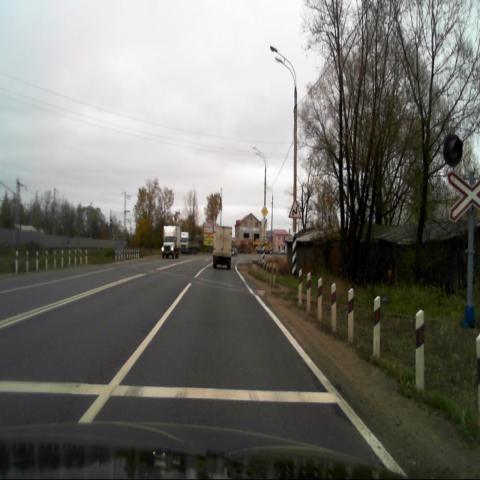1_12: (288, 198, 301, 218)
